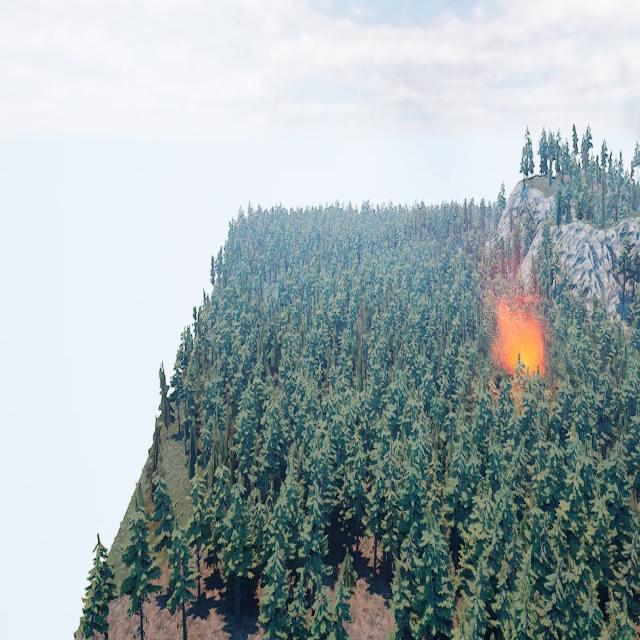fire: (495, 299, 548, 387)
smoke: (472, 183, 550, 349)
